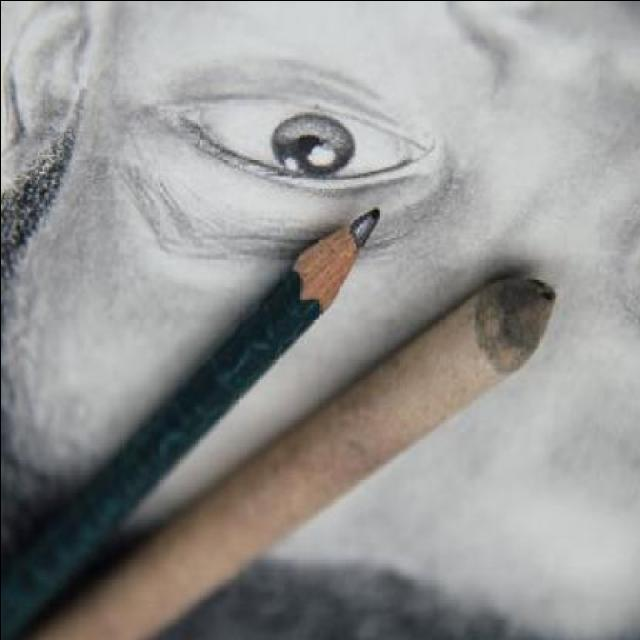pencil: (272, 192, 390, 340)
